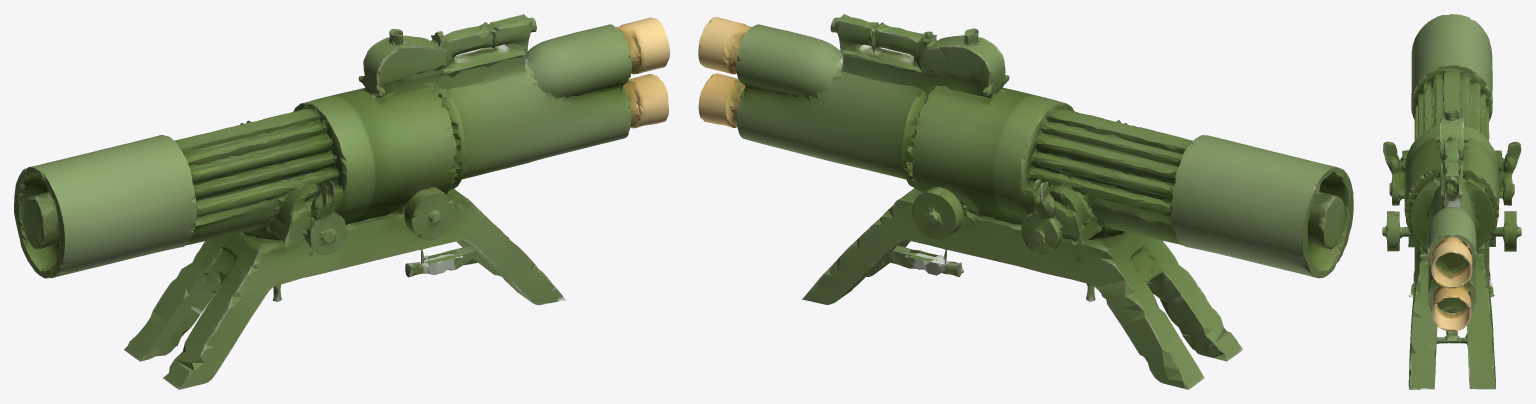
File: centurion_weapon_primary.glb
3 views of the same model, side by side, from view 1: azimuth 30°, elevation 25°; view 2: azimuth 150°, elevation 25°; view 3: azimuth 270°, elevation 25° (orthographic). The views are drawn at different scales.
Parts seen in each view (by area): view 1: centurion_weapon_primary; view 2: centurion_weapon_primary; view 3: centurion_weapon_primary.
Part boxes in pixels (left/top/right/bottom): centurion_weapon_primary: left=14, top=14, right=669, bottom=389; centurion_weapon_primary: left=698, top=14, right=1353, bottom=389; centurion_weapon_primary: left=1382, top=14, right=1521, bottom=389.
Size of the model in its own units: 1.9 by 0.8203 by 0.4627.
1 material, 1 textured.
